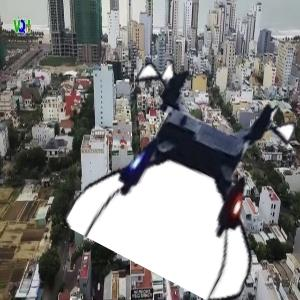drone: (85, 67, 297, 279)
